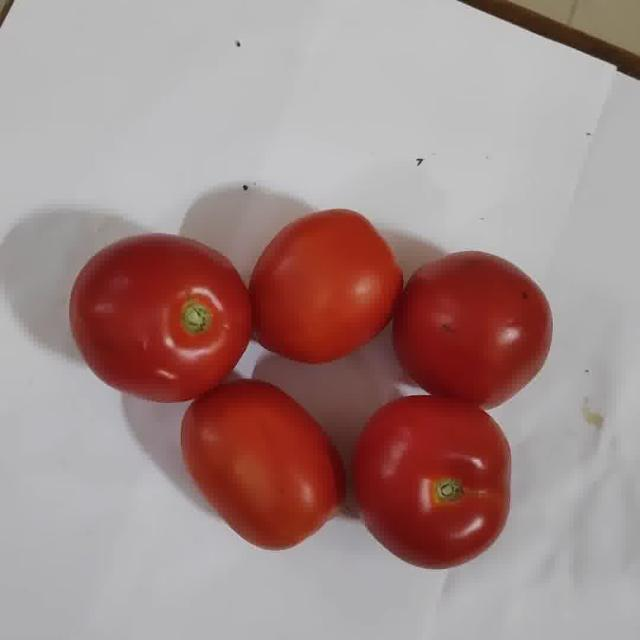Tomato: (69, 234, 250, 401), (181, 379, 340, 550), (354, 396, 510, 568), (392, 252, 551, 408), (249, 209, 402, 363)
